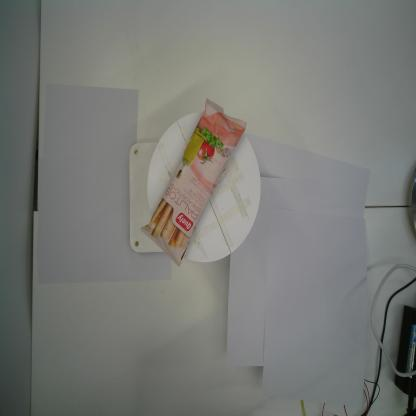Dessert: (139, 95, 248, 269)
